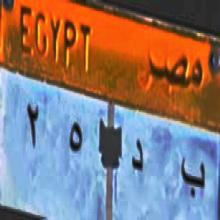2: (24, 100, 42, 154)
5: (65, 114, 84, 162)
baa: (177, 148, 207, 207)
daal: (128, 135, 145, 181)
